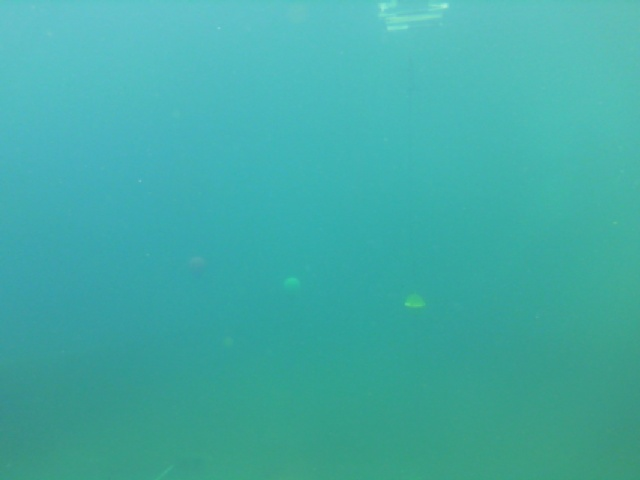buoy_green: (283, 275, 302, 301)
buoy_red: (188, 255, 206, 279)
buoy_yellow: (403, 290, 426, 315)
